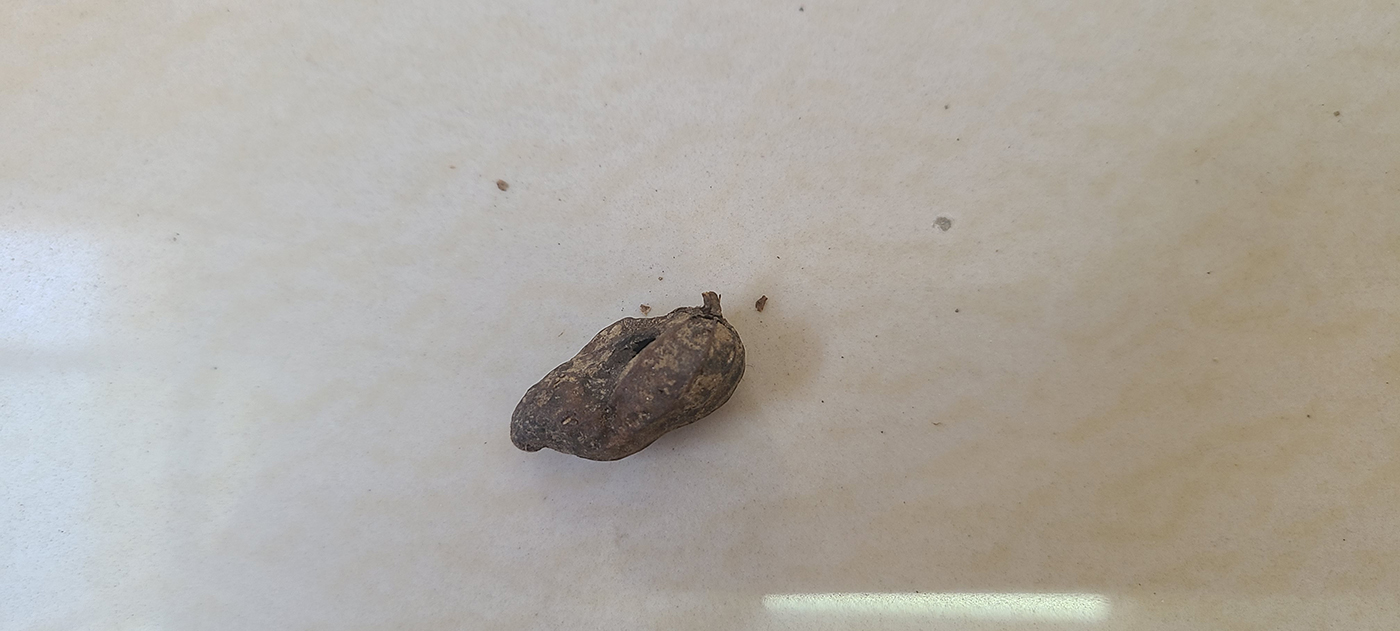l: (509, 307, 747, 463)
